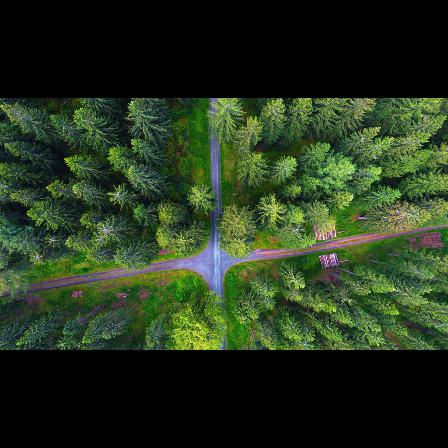Sick: (93, 220, 118, 239), (106, 184, 126, 206), (27, 250, 45, 267), (43, 232, 61, 248)
